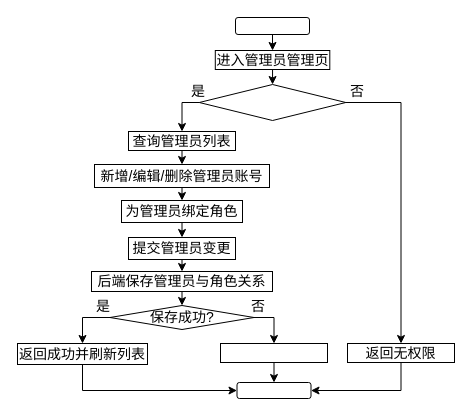
The diagram is 472 pixels wide and 416 high, and some of its shapes have lost their labels. The box of each missing label's shape, as (x1, y1, x2, y2) in pixels:
开始: (234, 16, 310, 34)
权限校验通过?: (198, 84, 346, 120)
结束: (236, 382, 311, 398)
返回失败信息: (220, 342, 328, 362)
